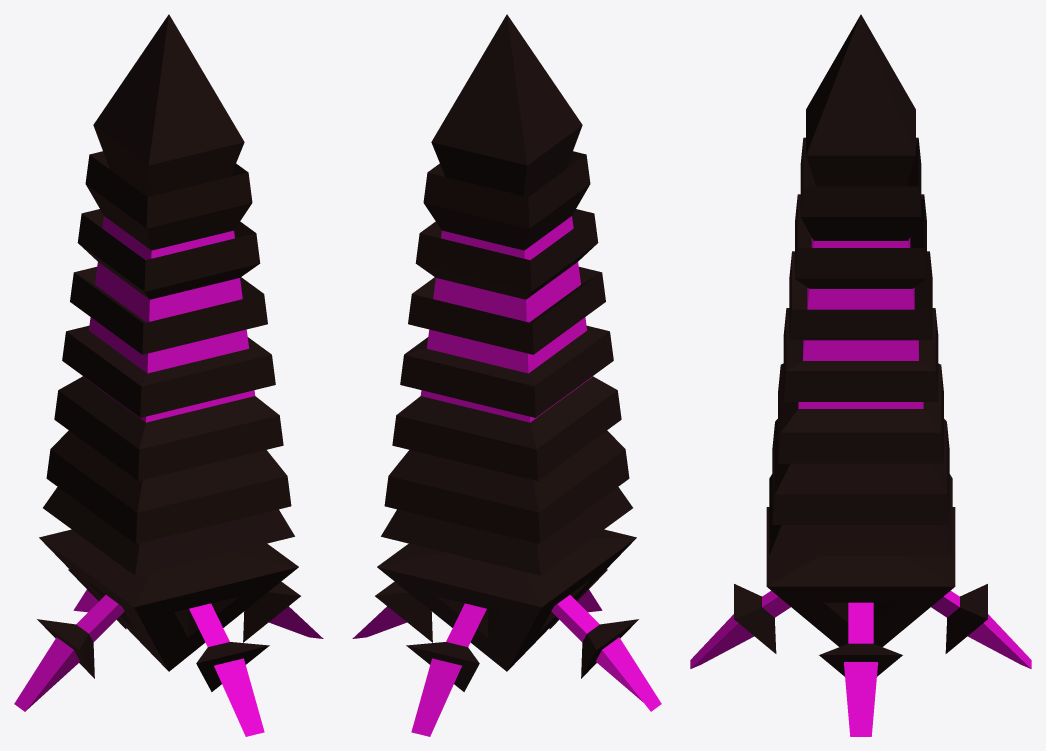
File: PortalPilar.fbx
3 views of the same model, side by side, from view 1: azimuth 30°, elevation 25°; view 2: azimuth 150°, elevation 25°; view 3: azimuth 270°, elevation 25° (orthographic).
Visible parts, largest first — view 1: Cube; view 2: Cube; view 3: Cube.
Boxes of the visible parts, bbox=[...] form: Cube: bbox=[14, 14, 323, 736]; Cube: bbox=[352, 14, 661, 736]; Cube: bbox=[690, 14, 1031, 736].
Bounding box in the file's own units: 5.23 × 11 × 5.23.
